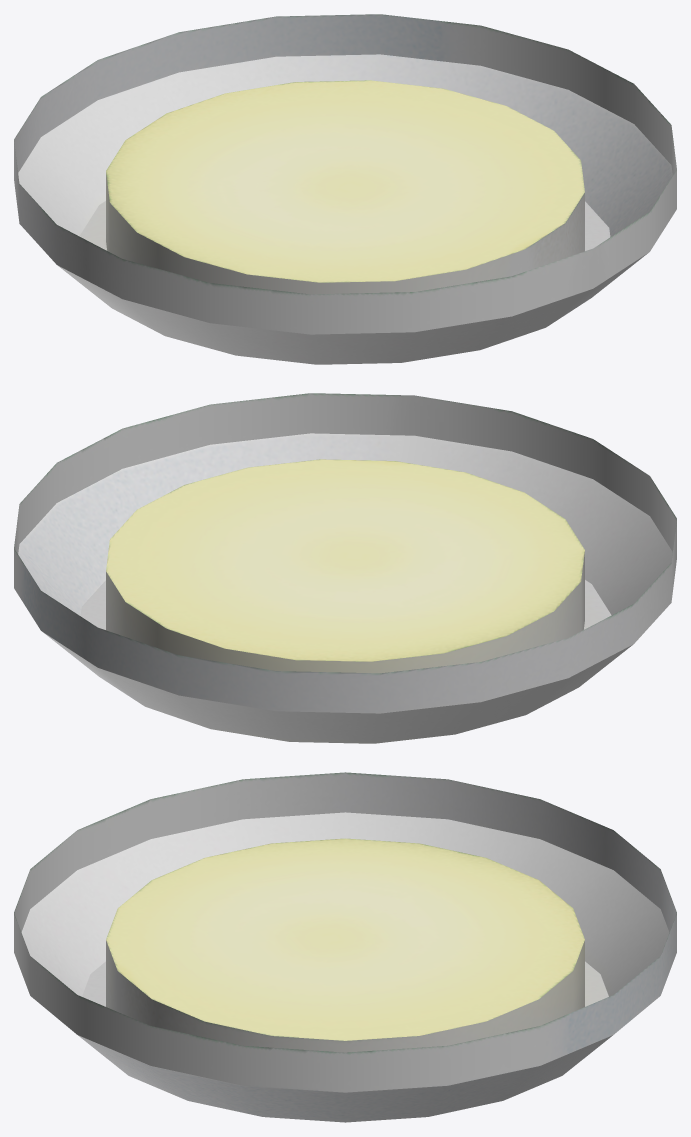
The model's file is foco_1.fbx.
3 renders of one model, top to bottom at view 1: azimuth 30°, elevation 25°; view 2: azimuth 150°, elevation 25°; view 3: azimuth 270°, elevation 25°, orthographic.
Parts seen in each view (by area): view 1: foco1; view 2: foco1; view 3: foco1.
Boxes of the visible parts, bbox=[...] form: foco1: bbox=[14, 14, 676, 364]; foco1: bbox=[14, 393, 676, 743]; foco1: bbox=[14, 772, 676, 1122].
Size of the model in its own units: 0.3589 by 0.0578 by 0.3589.
1 material, 1 textured.
